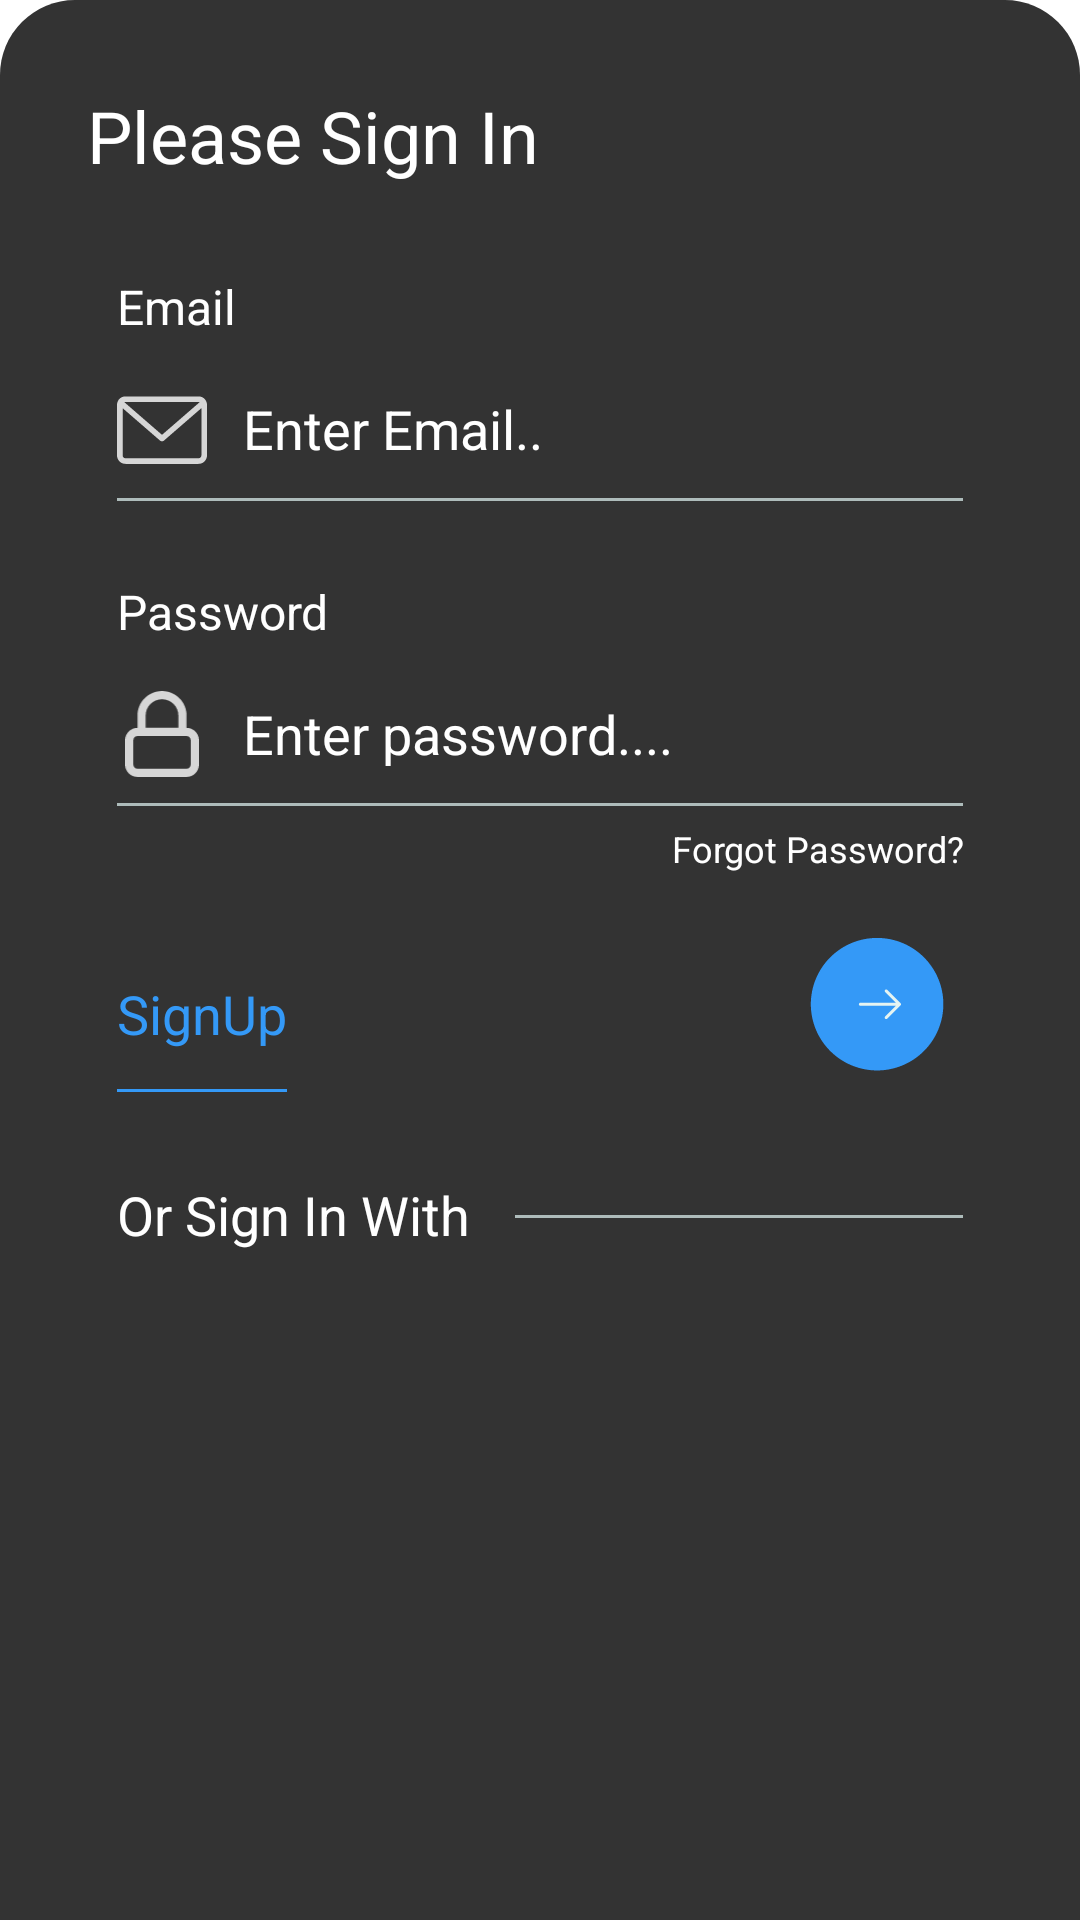

Screen size 1080 x 1920. Icon name, then its box in pixels as [left=x1, top=y1, right=x2, bottom=y2]:
lockicon: [left=125, top=691, right=199, bottom=777]
login: [left=810, top=938, right=944, bottom=1071]
